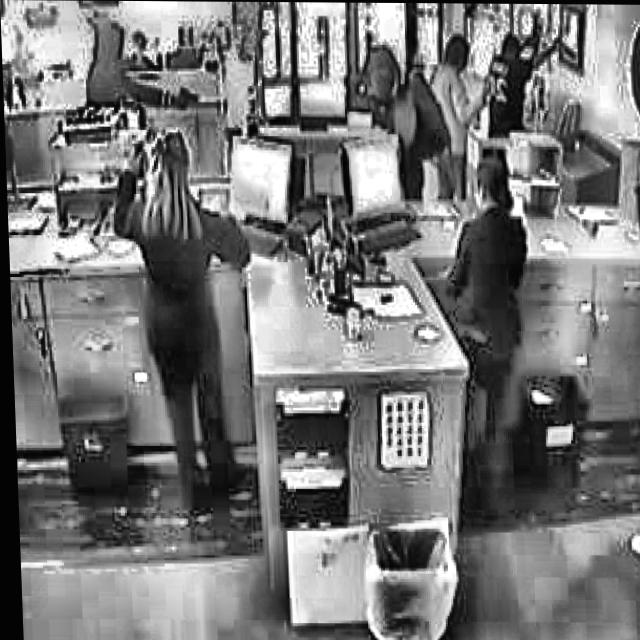robbery: (340, 41, 457, 218), (100, 128, 257, 249), (435, 8, 569, 128), (70, 10, 169, 114)
